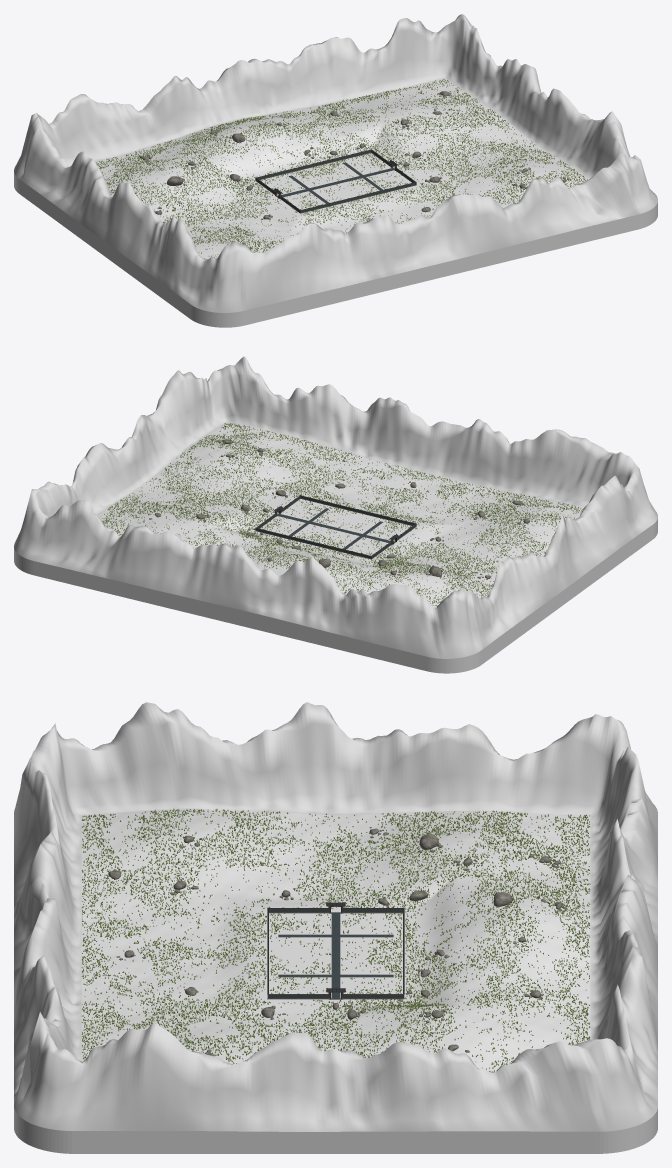
File: RollingHills_LOD0.fbx
3 views of the same model, one above another, from view 1: azimuth 30°, elevation 25°; view 2: azimuth 150°, elevation 25°; view 3: azimuth 270°, elevation 25° (orthographic). The views are drawn at different scales.
Parts seen in each view (by area): view 1: Mountains_Ring_LOD0, Terrain_09_LOD0, Terrain_07_LOD0, Terrain_10_LOD0, Terrain_06_LOD0, Terrain_05_LOD0, Terrain_11_LOD0, Terrain_04_LOD0, Terrain_08_LOD0, Terrain_03_LOD0, Grass_07_LOD0, Terrain_02_LOD0 (+15 smaller); view 2: Mountains_Ring_LOD0, Terrain_02_LOD0, Terrain_03_LOD0, Terrain_01_LOD0, Terrain_07_LOD0, Terrain_06_LOD0, Terrain_05_LOD0, Terrain_00_LOD0, Terrain_04_LOD0, Terrain_09_LOD0, Terrain_10_LOD0, Terrain_11_LOD0 (+16 smaller); view 3: Mountains_Ring_LOD0, Terrain_01_LOD0, Terrain_10_LOD0, Terrain_00_LOD0, Terrain_04_LOD0, Terrain_09_LOD0, Terrain_02_LOD0, Terrain_05_LOD0, Terrain_06_LOD0, Terrain_08_LOD0, Terrain_11_LOD0, Grass_00_LOD0 (+16 smaller).
Boxes of the visible parts, bbox=[...] form: Mountains_Ring_LOD0: bbox=[14, 14, 657, 327]; Terrain_09_LOD0: bbox=[156, 117, 307, 179]; Terrain_07_LOD0: bbox=[404, 117, 555, 179]; Terrain_10_LOD0: bbox=[253, 99, 403, 162]; Terrain_06_LOD0: bbox=[308, 130, 459, 203]; Terrain_05_LOD0: bbox=[212, 162, 363, 228]; Terrain_11_LOD0: bbox=[349, 79, 499, 129]; Terrain_04_LOD0: bbox=[141, 179, 266, 241]; Terrain_08_LOD0: bbox=[95, 145, 211, 200]; Terrain_03_LOD0: bbox=[460, 157, 587, 208]; Grass_07_LOD0: bbox=[407, 116, 554, 176]; Terrain_02_LOD0: bbox=[364, 180, 481, 223]; Mountains_Ring_LOD0: bbox=[14, 356, 657, 673]; Terrain_02_LOD0: bbox=[268, 446, 418, 508]; Terrain_03_LOD0: bbox=[171, 423, 322, 484]; Terrain_01_LOD0: bbox=[364, 472, 514, 533]; Terrain_07_LOD0: bbox=[116, 462, 266, 516]; Terrain_06_LOD0: bbox=[212, 485, 363, 548]; Terrain_05_LOD0: bbox=[309, 509, 459, 565]; Terrain_00_LOD0: bbox=[460, 494, 583, 550]; Terrain_04_LOD0: bbox=[406, 533, 546, 591]; Terrain_09_LOD0: bbox=[267, 549, 403, 594]; Terrain_10_LOD0: bbox=[182, 517, 307, 570]; Terrain_11_LOD0: bbox=[98, 503, 211, 540]; Mountains_Ring_LOD0: bbox=[14, 702, 657, 1153]; Terrain_01_LOD0: bbox=[81, 885, 251, 962]; Terrain_10_LOD0: bbox=[420, 936, 590, 1029]; Terrain_00_LOD0: bbox=[81, 809, 251, 888]; Terrain_04_LOD0: bbox=[251, 811, 420, 887]; Terrain_09_LOD0: bbox=[420, 867, 590, 955]; Terrain_02_LOD0: bbox=[81, 956, 251, 1029]; Terrain_05_LOD0: bbox=[251, 874, 420, 956]; Terrain_06_LOD0: bbox=[251, 955, 420, 1027]; Terrain_08_LOD0: bbox=[420, 811, 590, 883]; Terrain_11_LOD0: bbox=[420, 1011, 590, 1072]; Grass_00_LOD0: bbox=[82, 808, 251, 887].
Size of the model in its own units: 48000 by 7876 by 38000.
